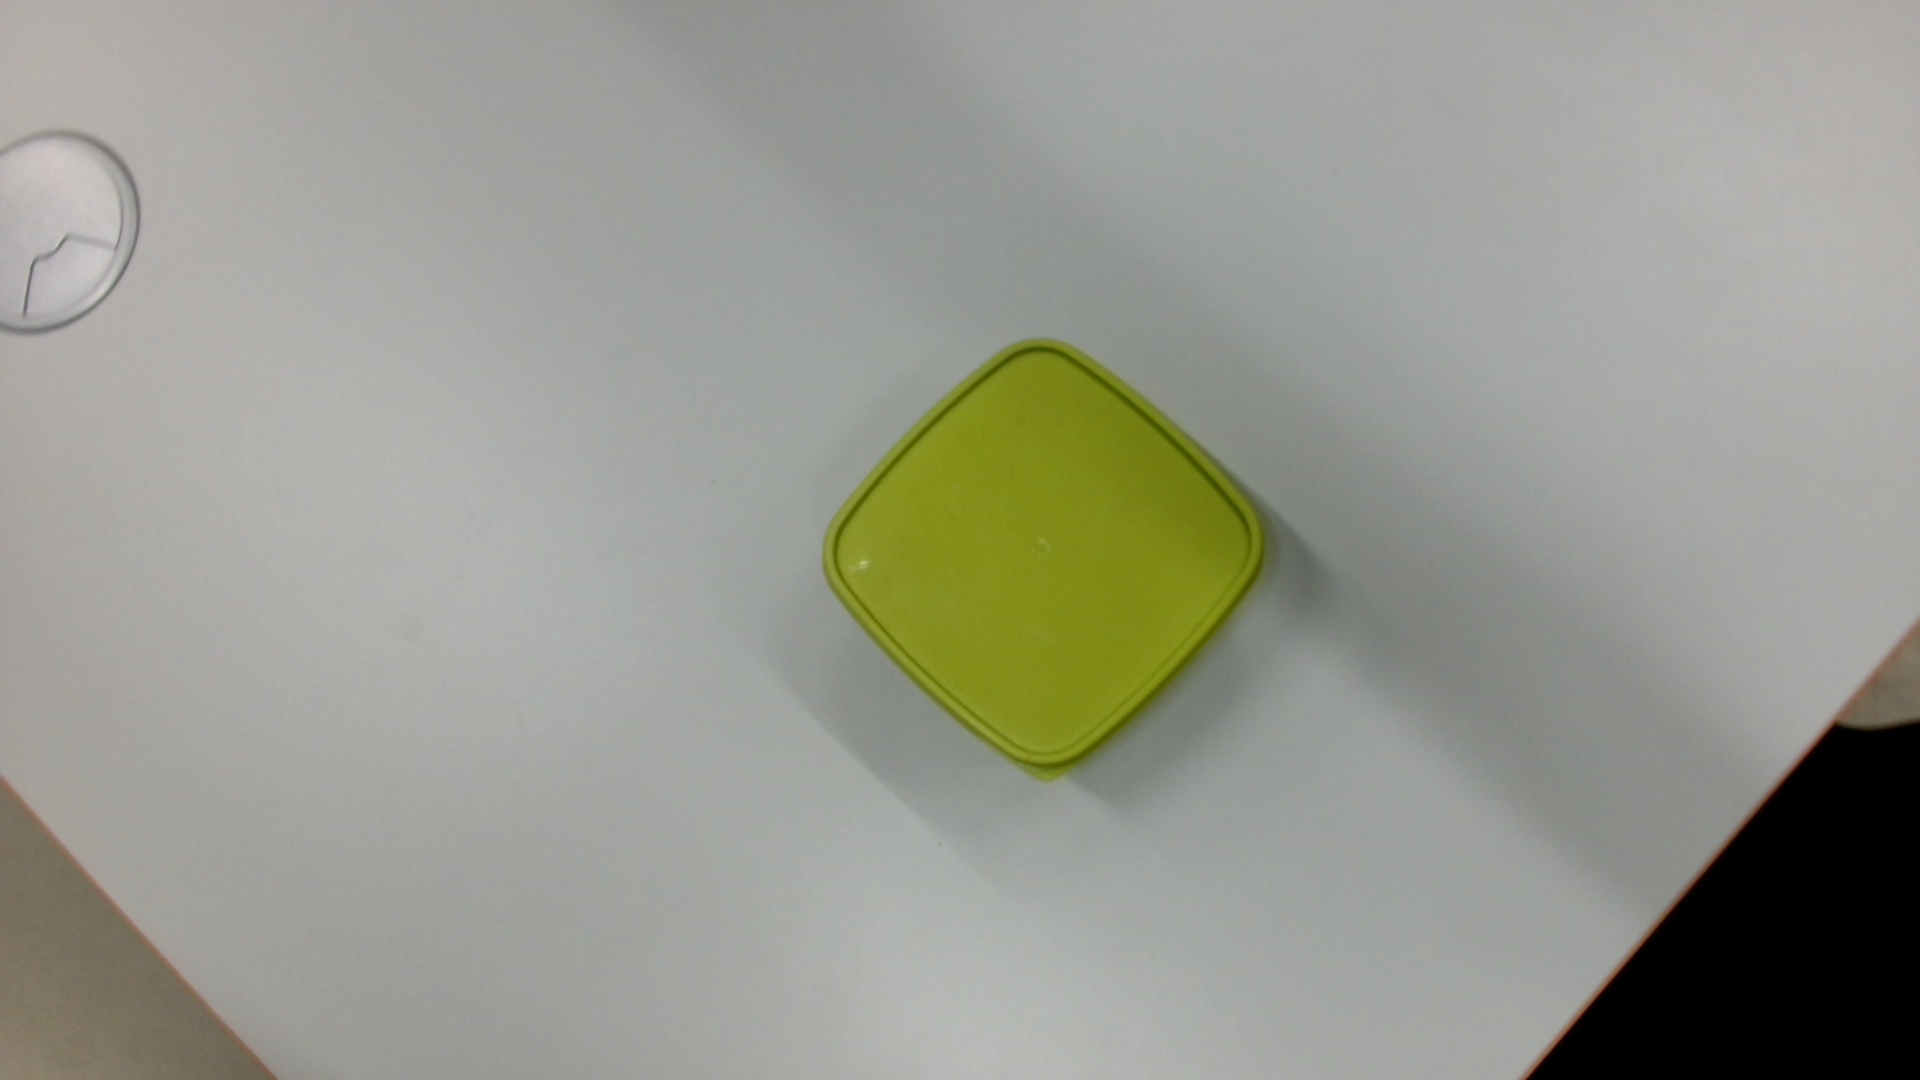Box: (816, 326, 1274, 789)
